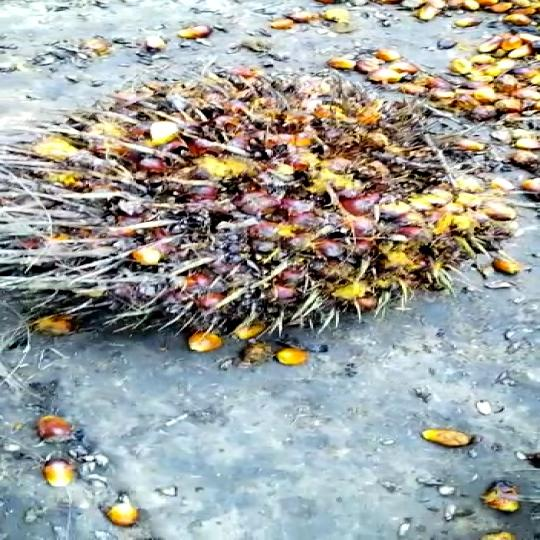terlalu masak: (0, 63, 511, 378)
